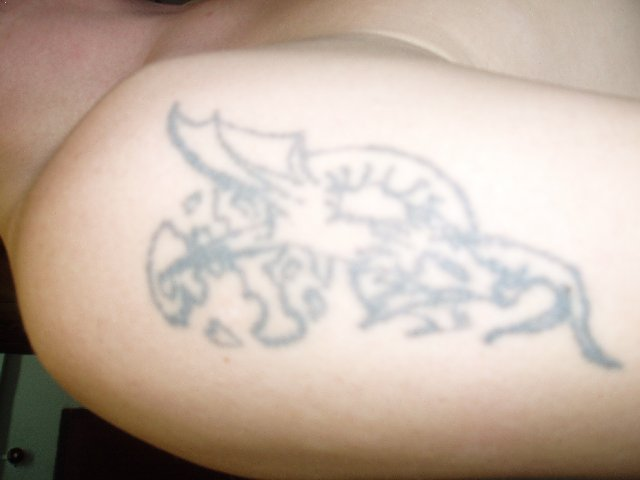tatu6_drakon: (125, 89, 625, 391)
